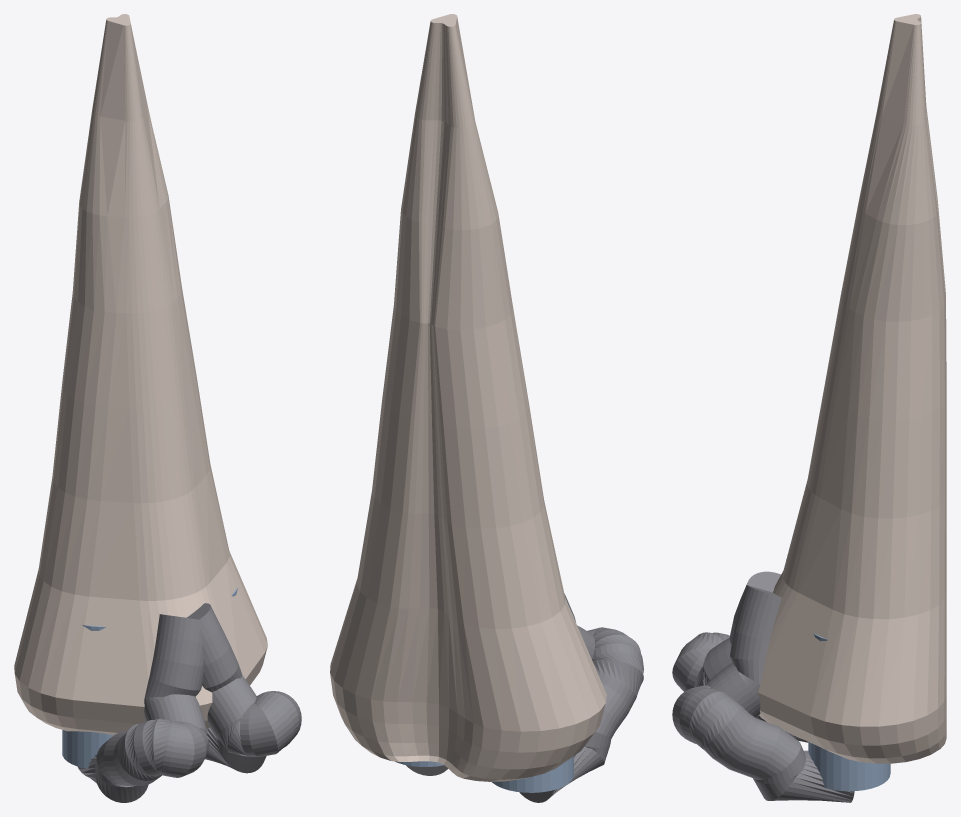
The model's file is candidate_low_pain.glb.
3 renders of one model, left to right at view 1: azimuth 30°, elevation 25°; view 2: azimuth 150°, elevation 25°; view 3: azimuth 270°, elevation 25°, orthographic. The views are drawn at different scales.
Parts seen in each view (by area): view 1: body, frame_left, frame_right, plug_left; view 2: body, frame_left, plug_left; view 3: body, frame_right, frame_left, plug_right.
Boxes of the visible parts, x1,y1,x2,y2 form: body: (14,14,267,734); frame_left: (78,614,208,802); frame_right: (187,603,301,773); plug_left: (62,624,113,768); body: (330,14,606,781); frame_left: (519,593,643,802); plug_left: (492,614,573,792); body: (758,14,946,763); frame_right: (672,585,854,802); frame_left: (672,571,808,742); plug_right: (808,633,890,791).
Bounding box in the file's own units: 20.49 × 60.91 × 20.03.
